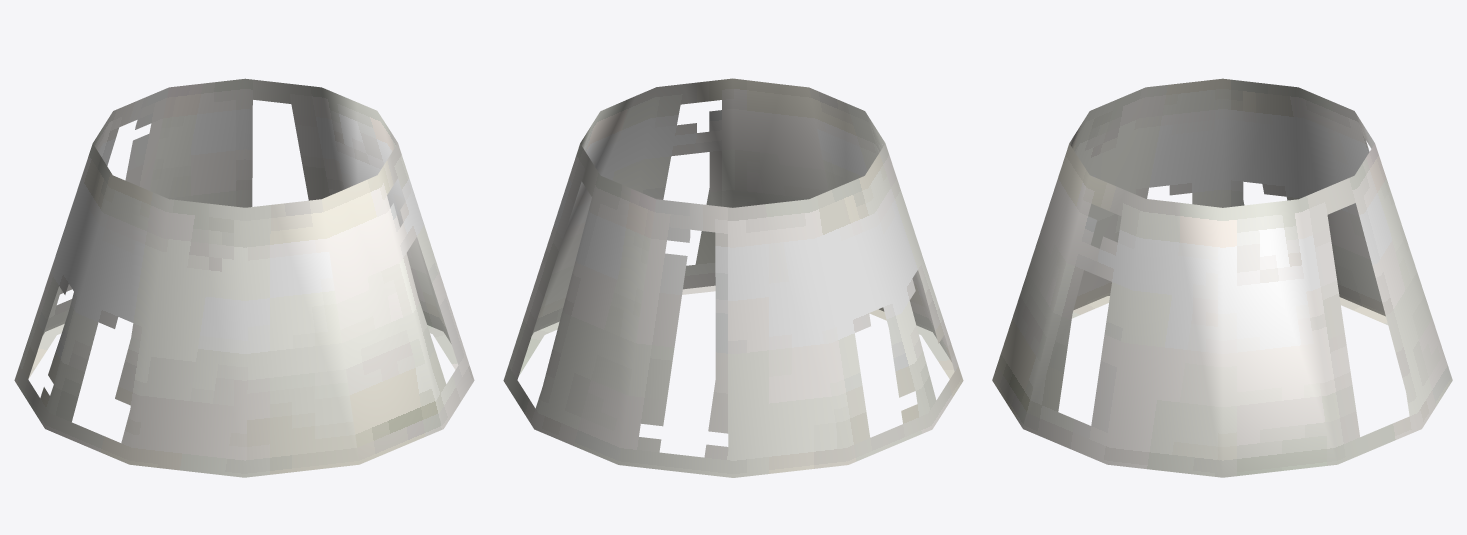
The model's file is poi_r4_head_l2.fbx.
3 renders of one model, left to right at view 1: azimuth 30°, elevation 25°; view 2: azimuth 150°, elevation 25°; view 3: azimuth 270°, elevation 25°, orthographic.
Visible parts, largest first — view 1: mesh_node; view 2: mesh_node; view 3: mesh_node.
Boxes of the visible parts, box(x1,y1,x2,y2) form: mesh_node: box(14, 78, 474, 477); mesh_node: box(503, 78, 963, 477); mesh_node: box(992, 78, 1452, 477).
Size of the model in its own units: 0.432 by 0.3709 by 0.432.
Materials: 1 (1 with a texture image).
